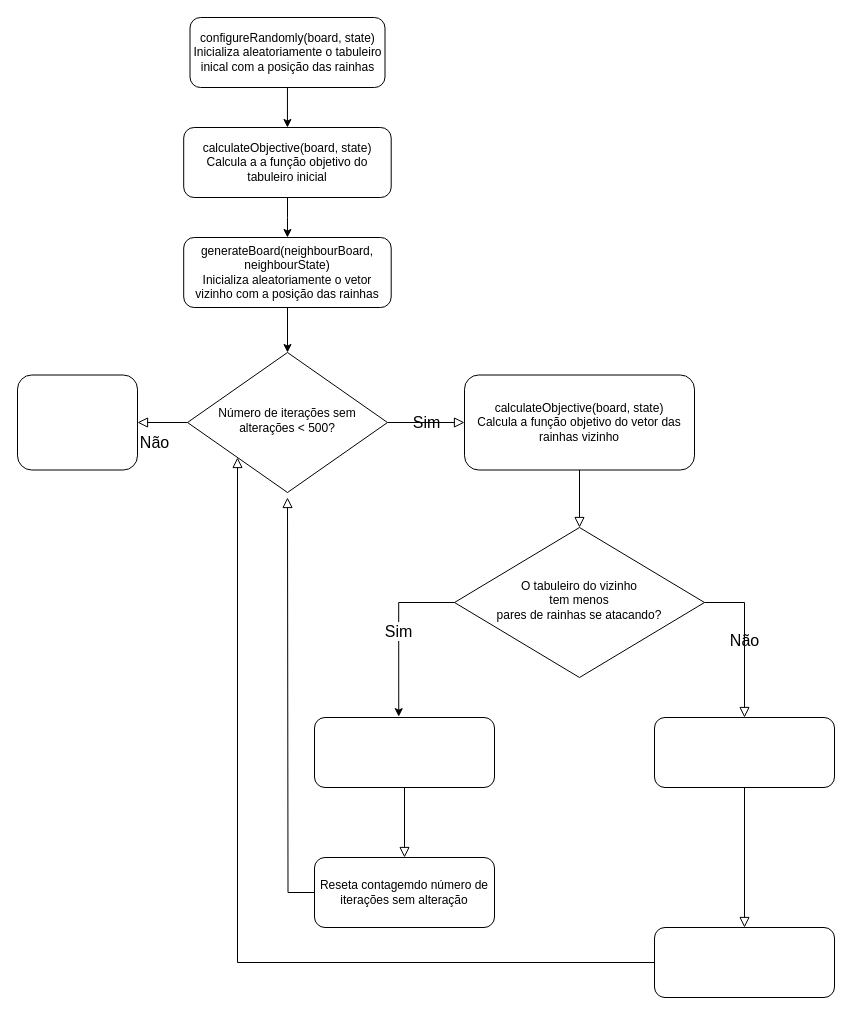
Image size: 852x1015. Some labels were removed from this diagram. The shapes that lost their labels are listed below. From the top down, each one's centre as x and y in pixels, then its label:
At pixel 77 422: "Retorna o tabuleiro das rainhas obtido".
At pixel 404 752: "Tabuleiro atual assume a organização do tabuleiro vizinho".
At pixel 744 752: "Novo tabuleiro vizinho é gerado aleatoriamente.".
At pixel 744 962: "Adiciona 1 na contagem de iterações sem alteração do tabuleiro das rainhas".
